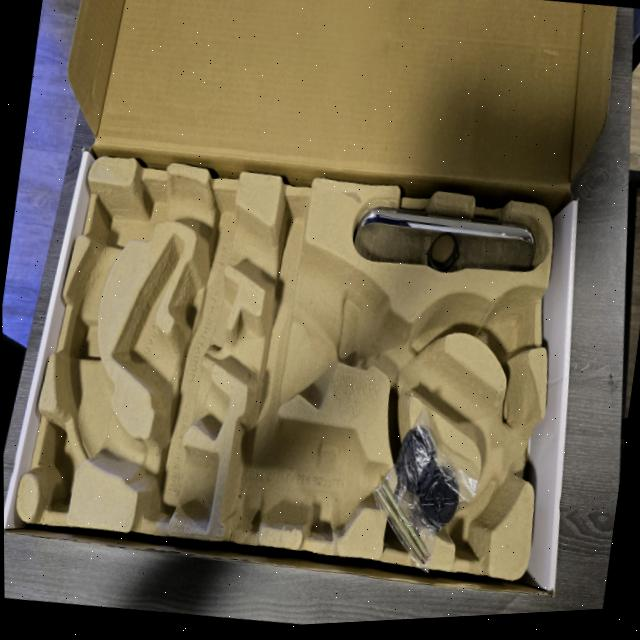1m: (58, 179, 532, 524)
2m: (116, 240, 230, 436)
3m: (230, 423, 387, 534)
4: (351, 208, 534, 270)
5m: (483, 295, 531, 364)
6m: (454, 475, 500, 554)
7: (374, 397, 483, 575)
